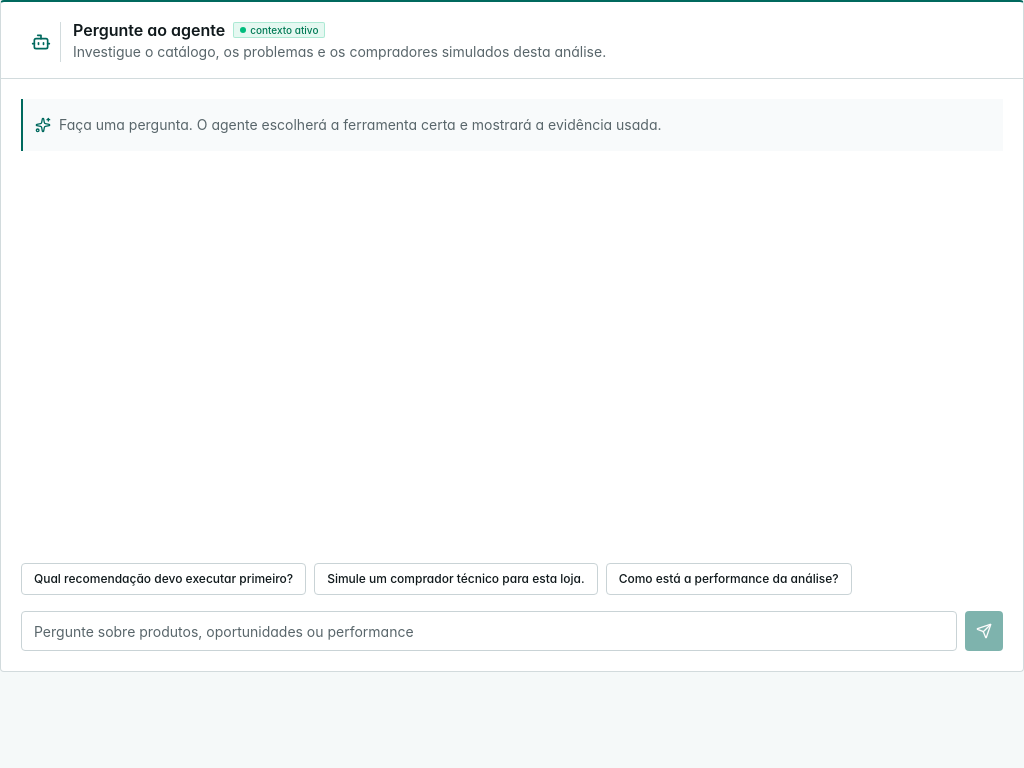
AssistantPanel › limpa a conversa local e o contexto da sessão no servidor
Type "Quais produtos existem?" into the field named "Pergunta para o agente" at (489,631), box x1=21 y1=611 x2=957 y2=651
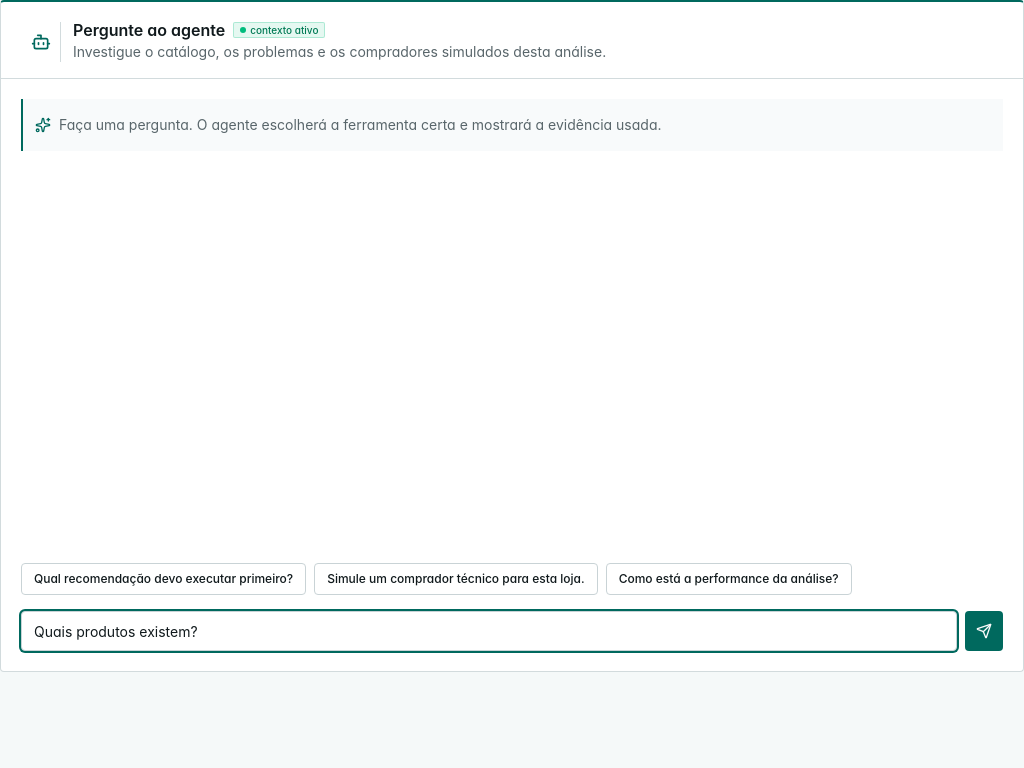
Click the button named "Enviar pergunta" at (984,631), box x1=965 y1=611 x2=1003 y2=651
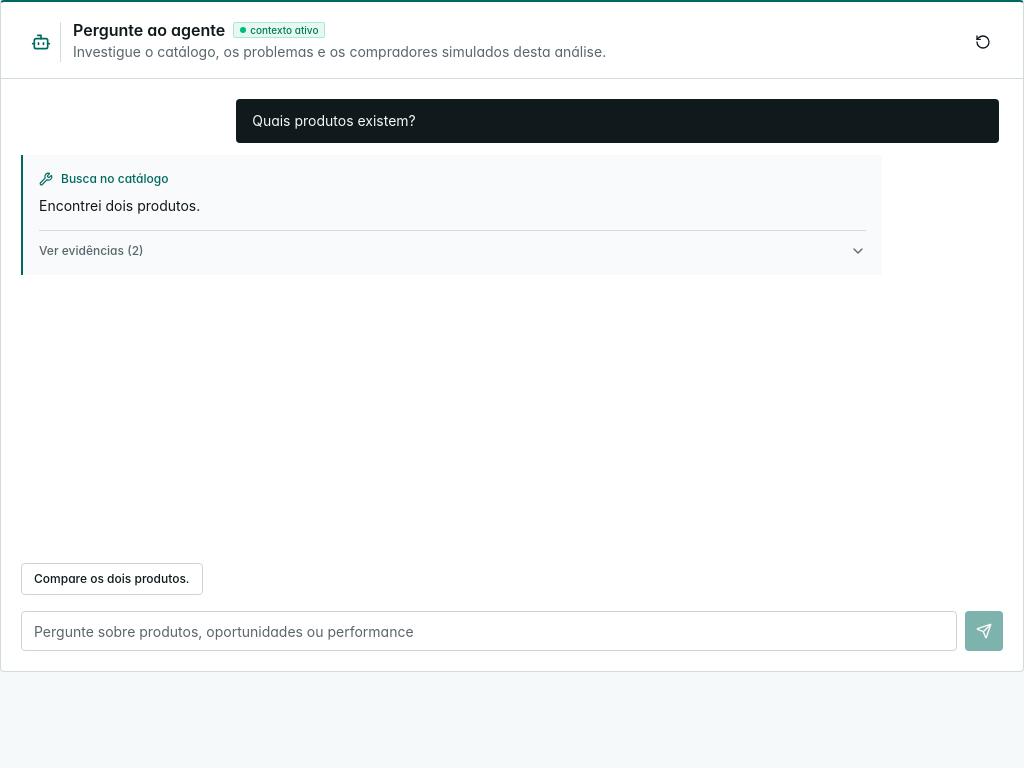
Expected: the text "Encontrei dois produtos." is shown, x1=39 y1=197 x2=200 y2=214
Click the button named "Limpar conversa" at (983,42), box x1=963 y1=22 x2=1003 y2=62
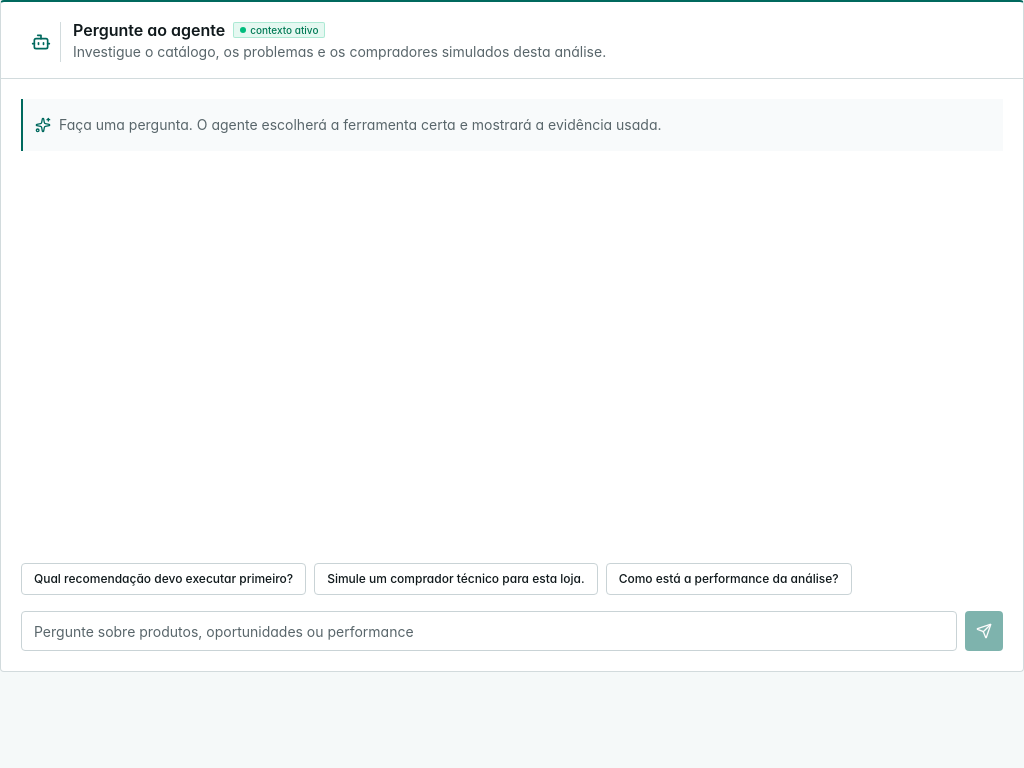
Expected: the text "Encontrei dois produtos." is gone
